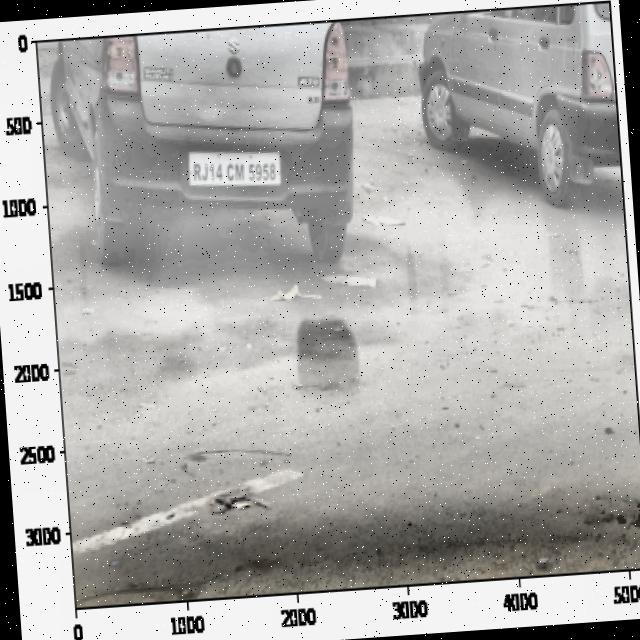license_plate: (187, 147, 282, 194)
